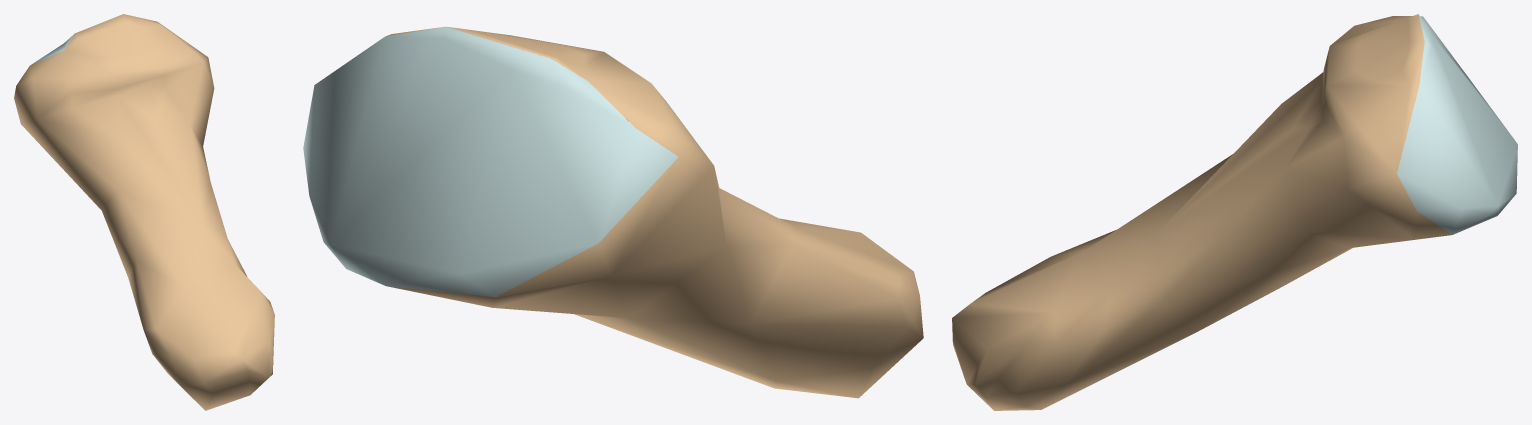
The model's file is Distal_phalanx_of_3d_finger.r_Generated_Mesh_From_X3D.732.glb.
3 renders of one model, left to right at view 1: azimuth 30°, elevation 25°; view 2: azimuth 150°, elevation 25°; view 3: azimuth 270°, elevation 25°, orthographic. The views are drawn at different scales.
Visible parts, largest first — view 1: Distal_phalanx_of_3d_finger.r_Generated_Mesh_From_X3D.732; view 2: Distal_phalanx_of_3d_finger.r_Generated_Mesh_From_X3D.732; view 3: Distal_phalanx_of_3d_finger.r_Generated_Mesh_From_X3D.732.
Part boxes in pixels (<box>): Distal_phalanx_of_3d_finger.r_Generated_Mesh_From_X3D.732: <box>14,14,274,410</box>; Distal_phalanx_of_3d_finger.r_Generated_Mesh_From_X3D.732: <box>303,26,923,398</box>; Distal_phalanx_of_3d_finger.r_Generated_Mesh_From_X3D.732: <box>952,14,1517,410</box>.
Size of the model in its own units: 0.00986 by 0.0139 by 0.0179.
